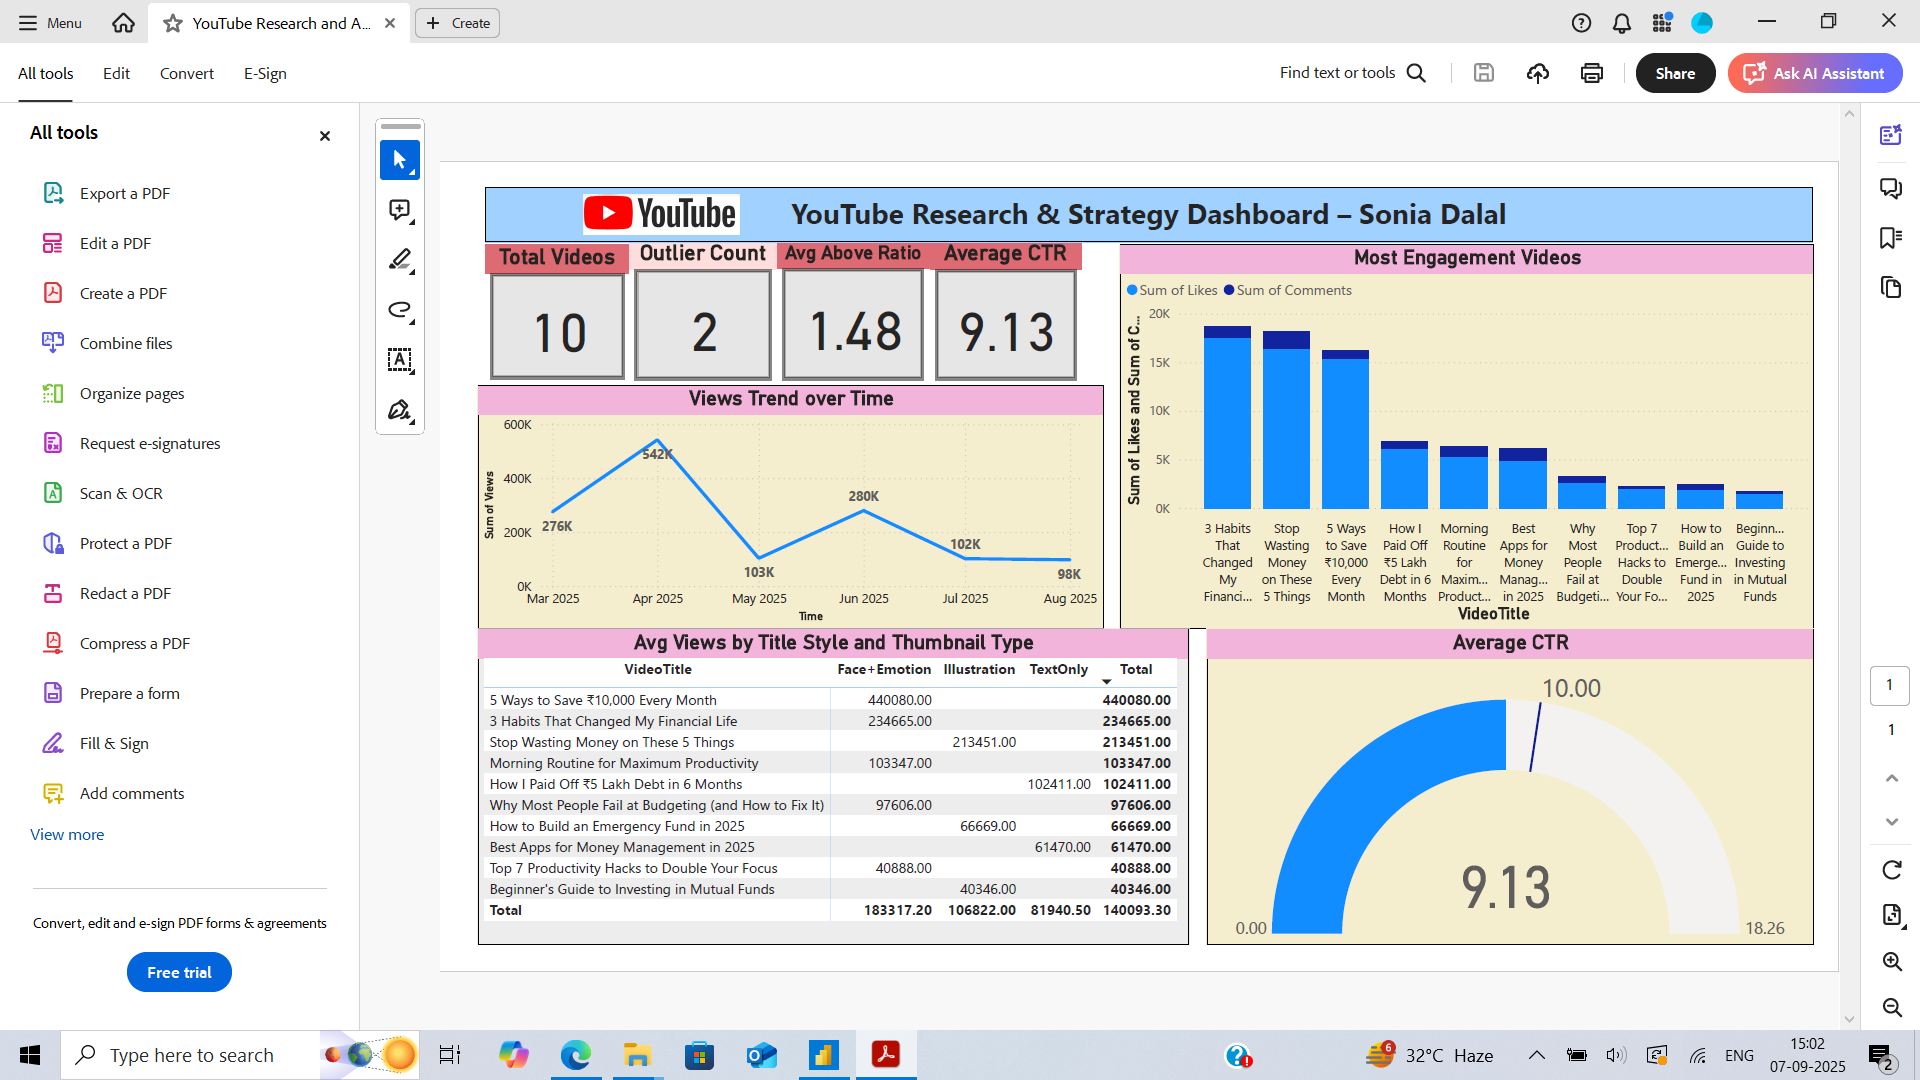

The dashboard page shown, as its layout file describes it:
{"tool":"powerbi","page":{"name":"Page 1","canvas":[1280,720],"ordinal":0},"visuals":[{"type":"cardVisual","title":"Total Videos","fields":{"Data":["YouTube_RealStyle_Sample_PowerBI.Total Videos"]},"box":[18.7,54.5,137,133.9],"z":0},{"type":"cardVisual","title":"Outlier Count","fields":{"Data":["YouTube_RealStyle_Sample_PowerBI.Outlier Count"]},"box":[155.7,49.8,140.1,138.6],"z":1000},{"type":"cardVisual","title":"Average CTR","fields":{"Data":["YouTube_RealStyle_Sample_PowerBI.Average CTR"]},"box":[440.6,49.8,144.8,138.6],"z":2000},{"type":"cardVisual","title":"Avg Above Ratio","fields":{"Data":["YouTube_RealStyle_Sample_PowerBI.Avg Above Ratio"]},"box":[295.8,51.4,144.8,137],"z":3000},{"type":"textbox","box":[19.3,0,1259.5,51.9],"z":4000},{"type":"image","box":[107.4,0,158,51.9],"z":5000},{"type":"lineChart","title":" Views Trend over Time","fields":{"Category":["YouTube_RealStyle_Sample_PowerBI.Upload_Date.Variation.Date Hierarchy.Year","YouTube_RealStyle_Sample_PowerBI.Upload_Date.Variation.Date Hierarchy.Month"],"Y":["Sum(YouTube_RealStyle_Sample_PowerBI.Views)"]},"box":[12.5,188.4,593.1,230.4],"z":6000},{"type":"columnChart","title":"Most Engagement Videos","fields":{"Category":["YouTube_RealStyle_Sample_PowerBI.VideoTitle"],"Y":["Sum(YouTube_RealStyle_Sample_PowerBI.Likes)","Sum(YouTube_RealStyle_Sample_PowerBI.Comments)"]},"box":[621.2,54.5,658.5,364.3],"z":7000},{"type":"pivotTable","title":"Avg Views by Title Style and Thumbnail Type","fields":{"Rows":["YouTube_RealStyle_Sample_PowerBI.VideoTitle"],"Columns":["YouTube_RealStyle_Sample_PowerBI.Thumbnail_Type"],"Values":["Avg(YouTube_RealStyle_Sample_PowerBI.Views)"]},"box":[12.5,418.8,674.1,300.5],"z":8000},{"type":"gauge","fields":{"Y":["YouTube_RealStyle_Sample_PowerBI.Average CTR"]},"box":[703.7,418.8,576,300.5],"z":9000}]}

Visuals, with their boxes on the page's 1280x720 design canvas (x1, y1, x2, y2). These are canvas units, not pixel positions in the 1920x1080 screenshot, which may show the page scaled, cropped or inside an application window:
"Total Videos" cardVisual: box(19, 54, 156, 188)
"Outlier Count" cardVisual: box(156, 50, 296, 188)
"Average CTR" cardVisual: box(441, 50, 585, 188)
"Avg Above Ratio" cardVisual: box(296, 51, 441, 188)
textbox: box(19, 0, 1279, 52)
image: box(107, 0, 265, 52)
" Views Trend over Time" lineChart: box(12, 188, 606, 419)
"Most Engagement Videos" columnChart: box(621, 54, 1280, 419)
"Avg Views by Title Style and Thumbnail Type" pivotTable: box(12, 419, 687, 719)
gauge - YouTube_RealStyle_Sample_PowerBI.Average CTR: box(704, 419, 1280, 719)
